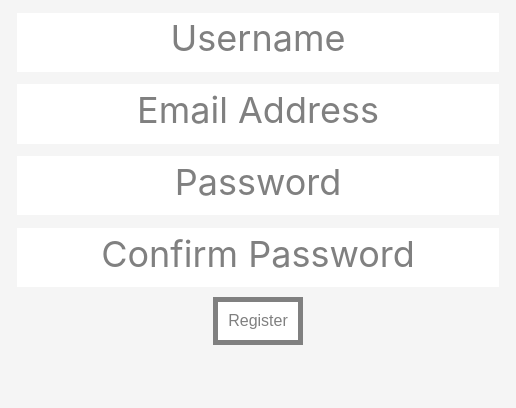
Test: Register page › should inform the user if the two passwords do not match
This screenshot has width=516, height=408.
Type "fake_username" into the field labelled "Username".
click(258, 42); type("fake_username")  # box [17,13,499,72]
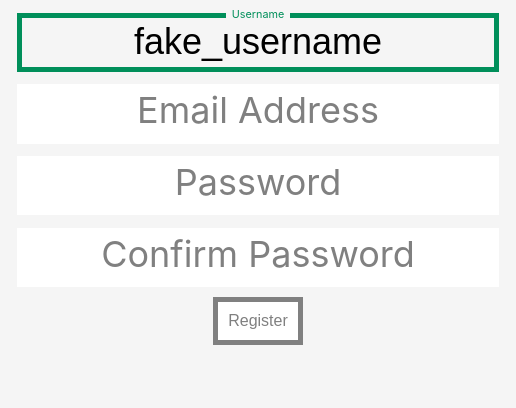
Type "fake_email@email.com" into the field labelled "Email Address".
click(258, 114); type("fake_email@email.com")  # box [17,84,499,144]
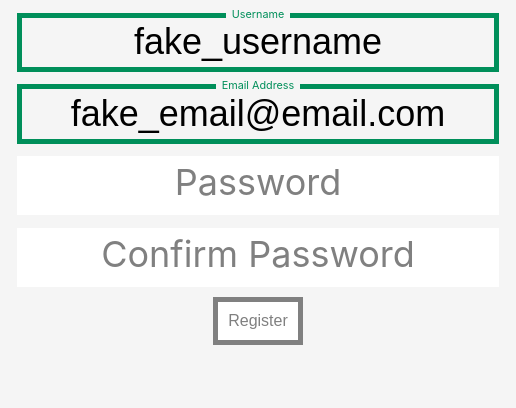
Type "fake_password" into the password field labelled "Password".
click(258, 186); type("fake_password")  # box [17,156,499,215]
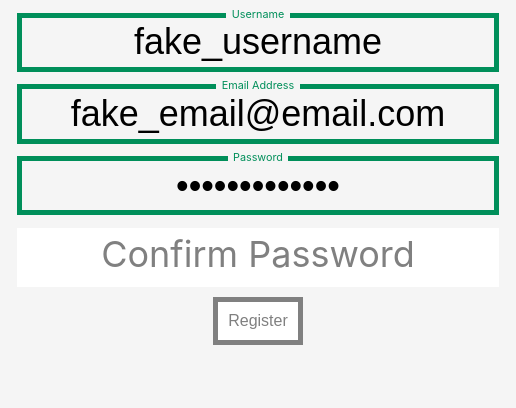
Type "fake_password2" into the password field labelled "Confirm Password".
click(258, 258); type("fake_password2")  # box [17,228,499,287]
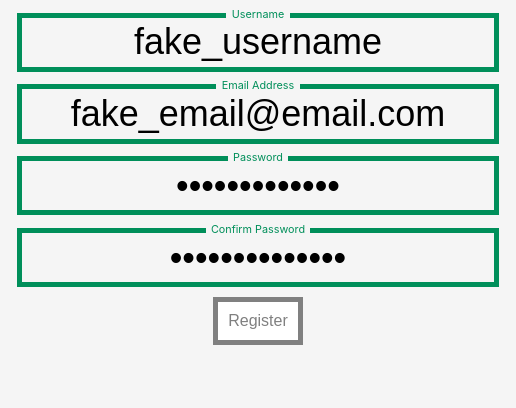
Click the button "Register".
click(258, 321)  # box [213,297,303,345]
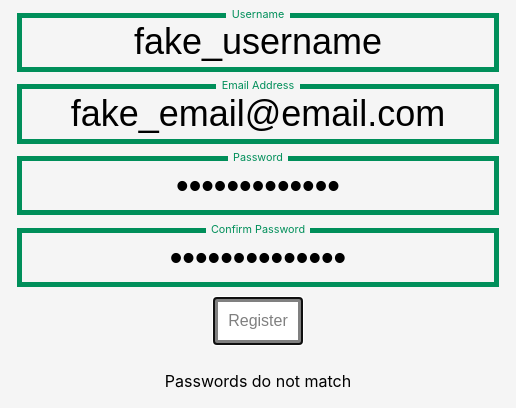
Expected: the text "Passwords do not match" is shown, [165,371,351,391]
